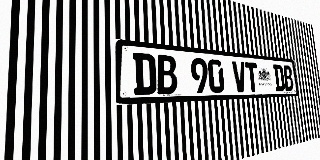0: (207, 59, 225, 93)
9: (190, 57, 209, 93)
B: (156, 54, 178, 94), (283, 65, 294, 91)
D: (133, 52, 157, 95), (273, 64, 285, 91)
T: (245, 62, 259, 92)
V: (232, 61, 247, 92)
